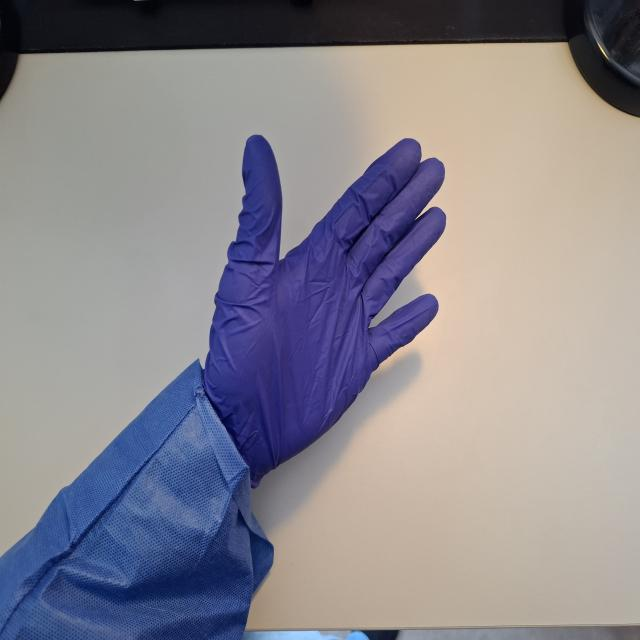glove_on: (196, 131, 448, 493)
